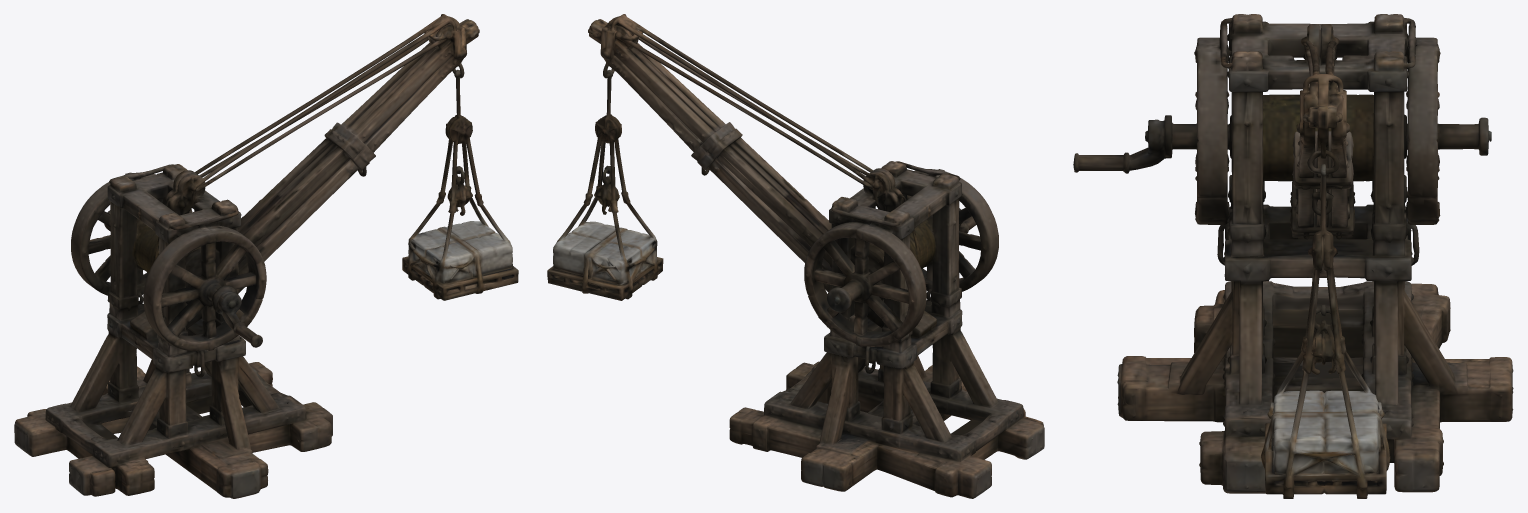
Rendered from crane.glb.
3 views of the same model, side by side, from view 1: azimuth 30°, elevation 25°; view 2: azimuth 150°, elevation 25°; view 3: azimuth 270°, elevation 25° (orthographic). The views are drawn at different scales.
Visible parts, largest first — view 1: node_0; view 2: node_0; view 3: node_0.
Part boxes in pixels (x1,y1,x2,y2): node_0: (14, 14, 518, 498); node_0: (547, 14, 1044, 498); node_0: (1073, 14, 1513, 498).
Bounding box in the file's own units: 0.92 × 0.7101 × 0.5373.
Materials: 1 (1 with a texture image).
